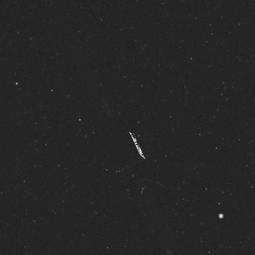smart_1: (91, 118, 158, 184)
